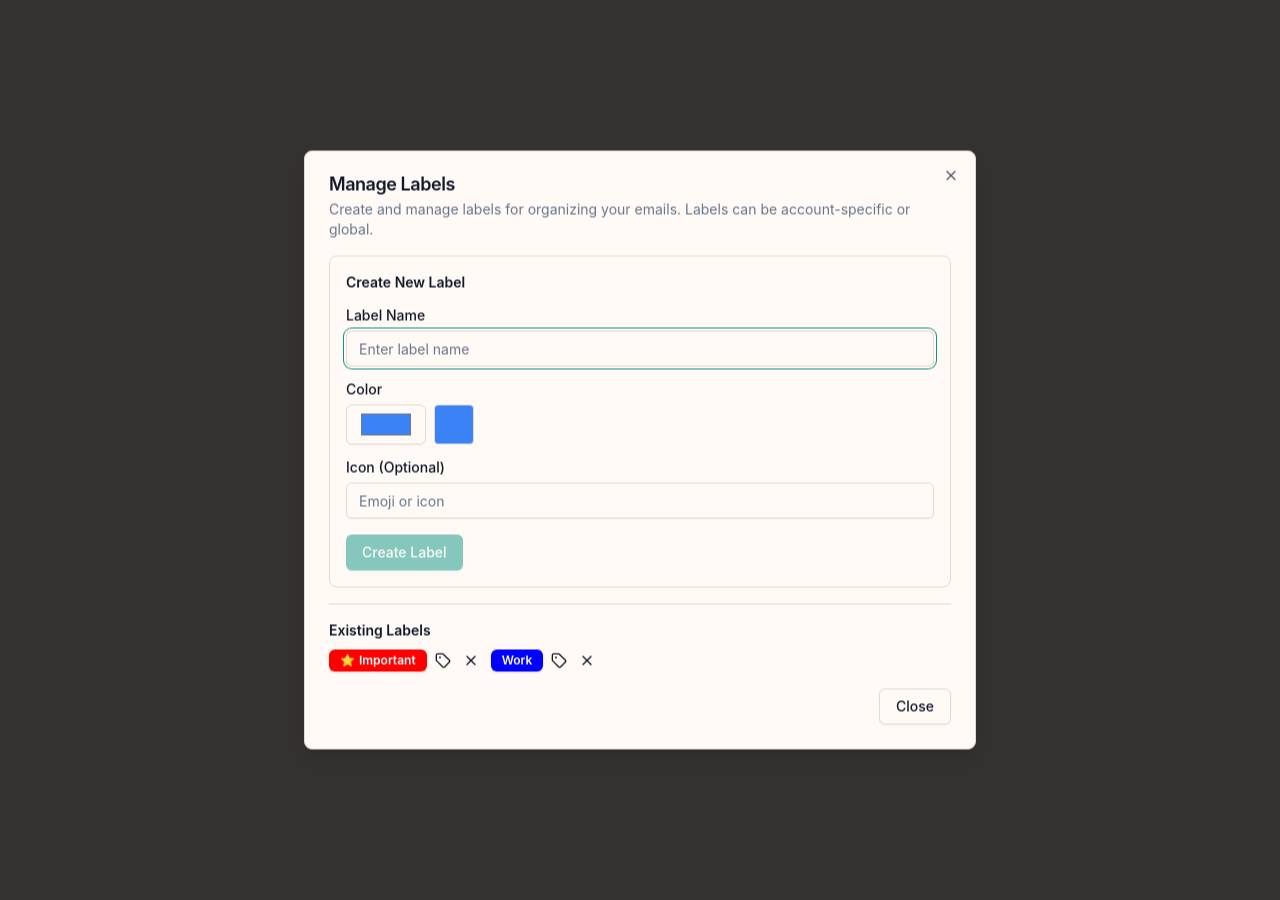
Test: LabelManager › edit label › should show Edit Label title when edit button is clicked
What coordinates should you click on to do the following:
click the button named "Edit label" next to "Important"
I would click on:
 (443, 660)
Its box is [431, 648, 455, 672].
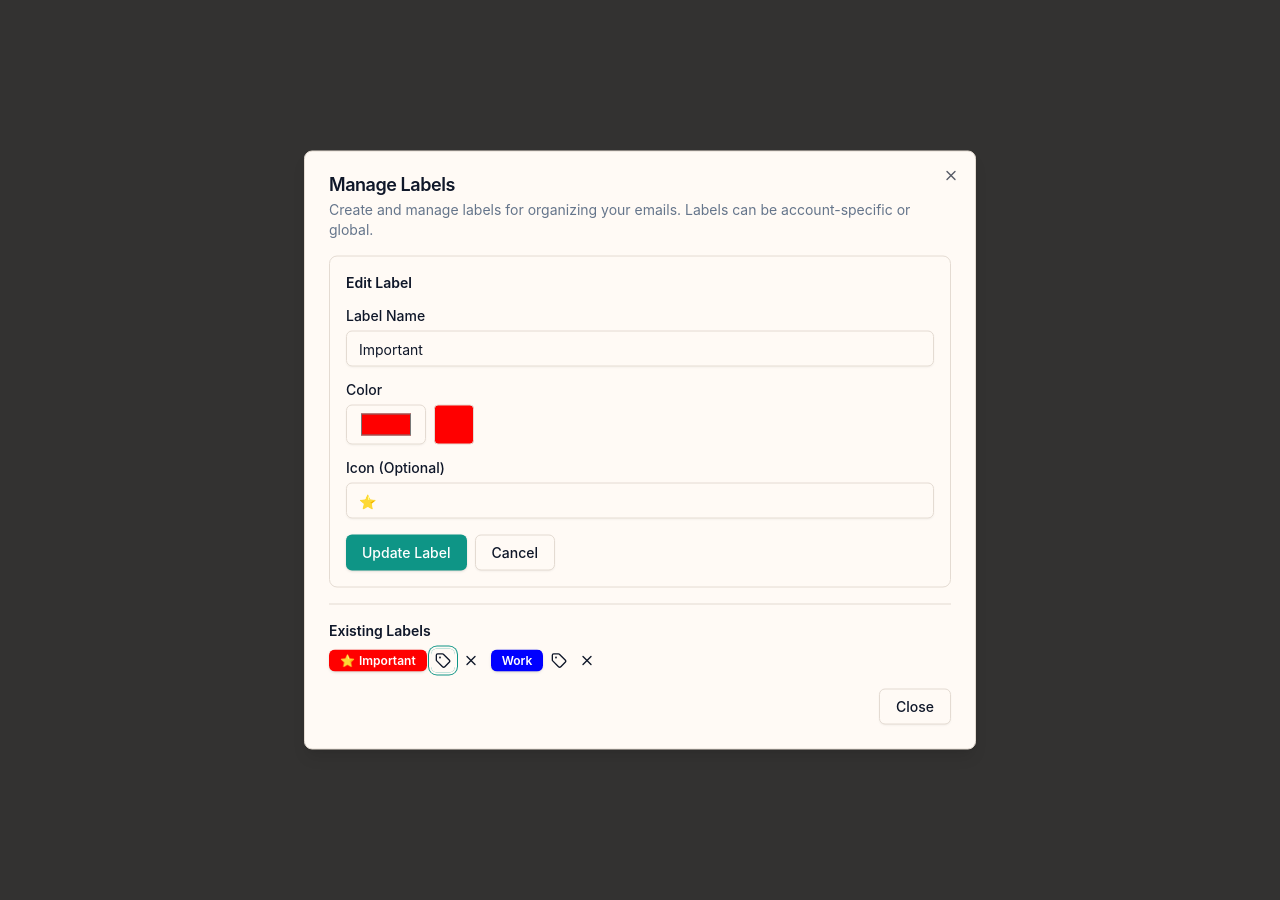
Expected: the heading "Edit Label" is shown, [346, 274, 412, 290]
